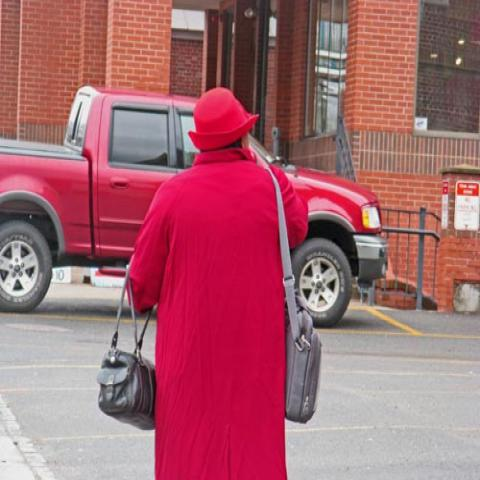truck: (1, 88, 198, 308)
